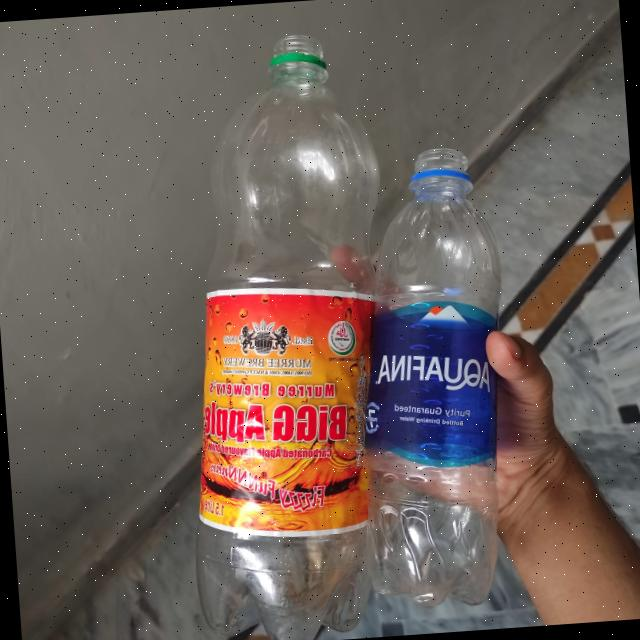bottle: (133, 40, 399, 614), (348, 148, 518, 608)
label: (184, 281, 378, 528), (371, 297, 504, 474)
